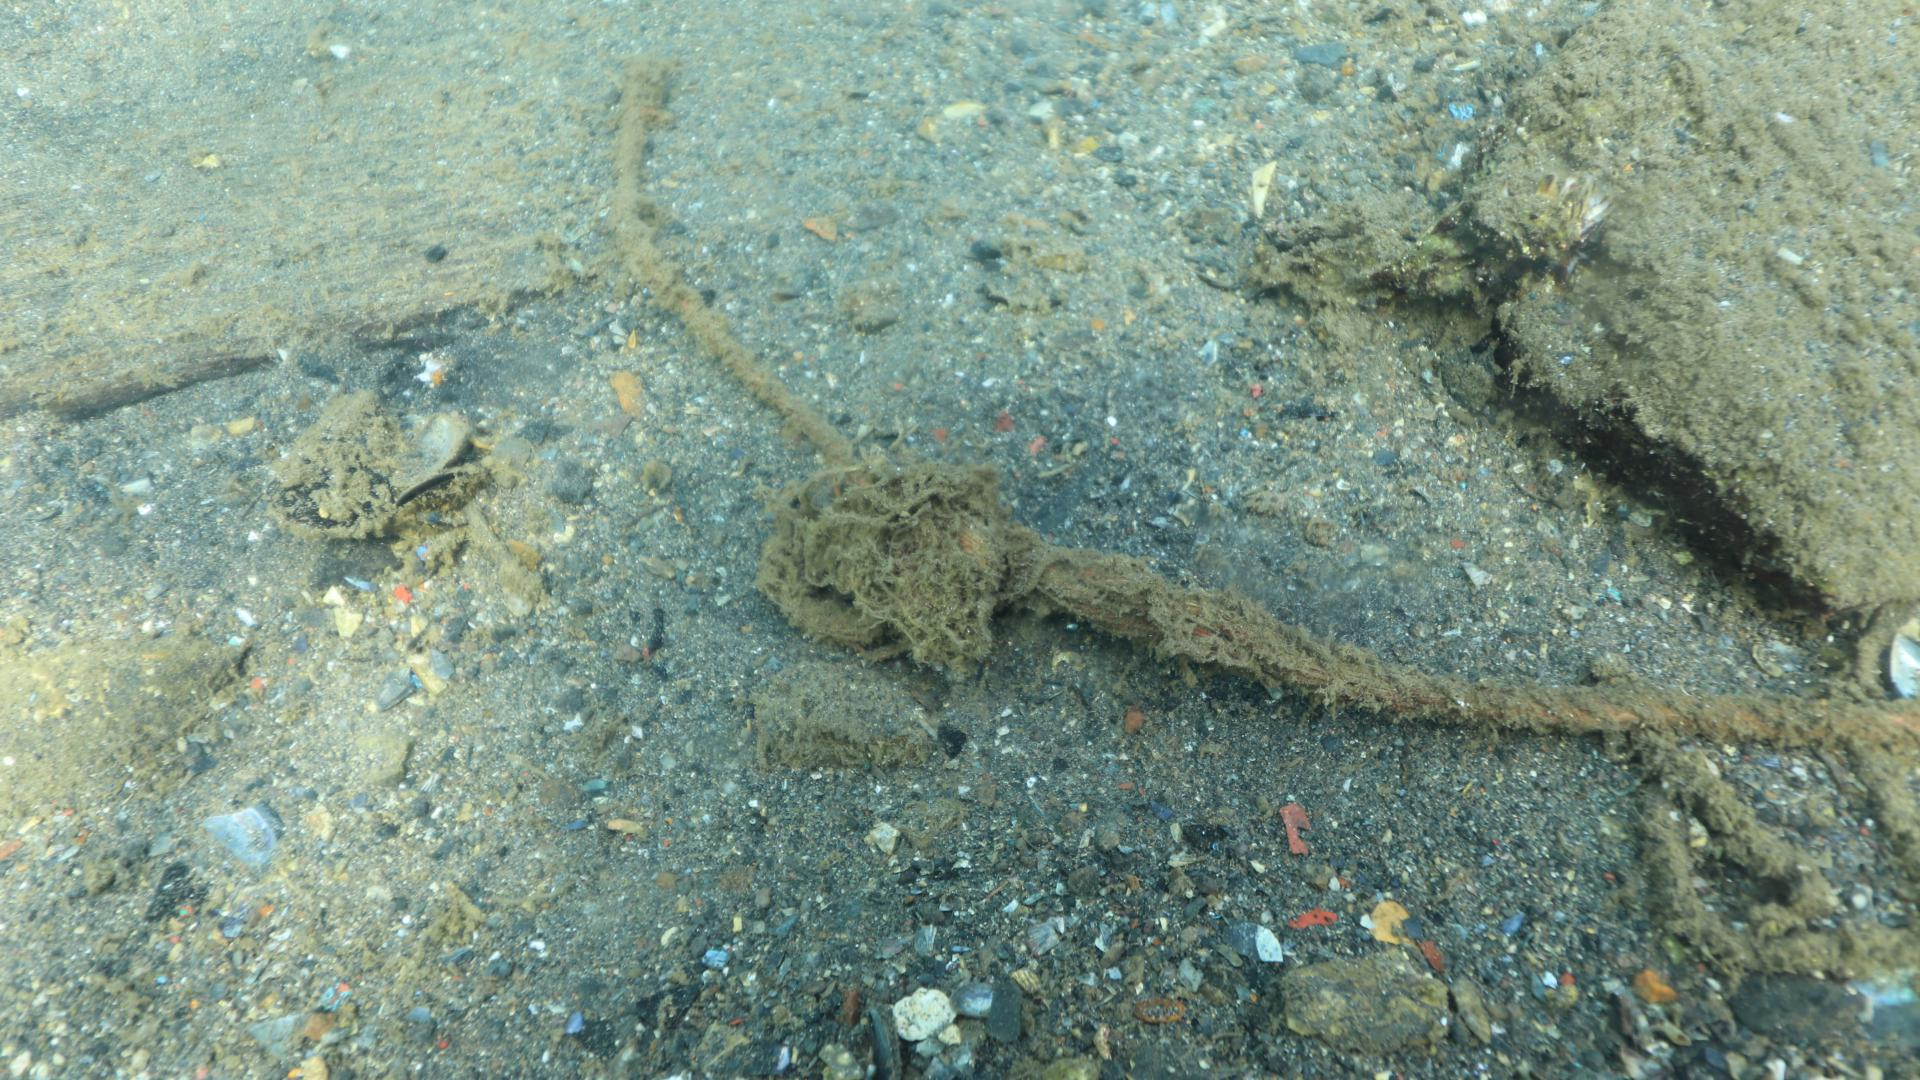rope: (609, 59, 1920, 748)
